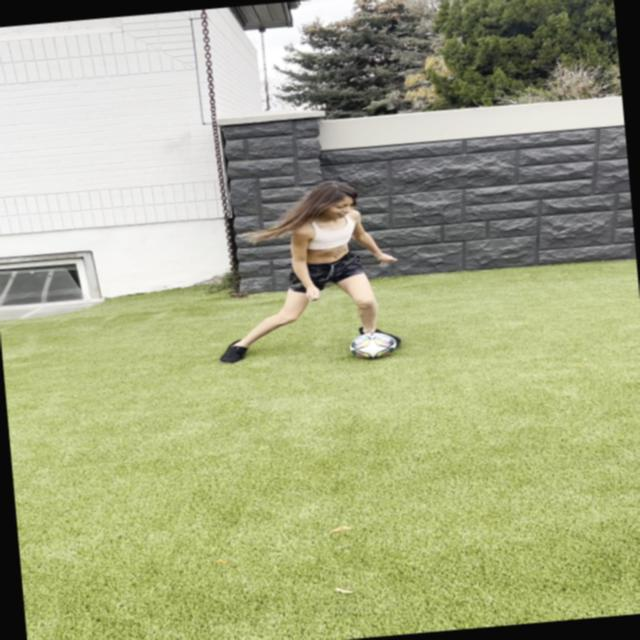Soccer Ball: (348, 329, 398, 360)
